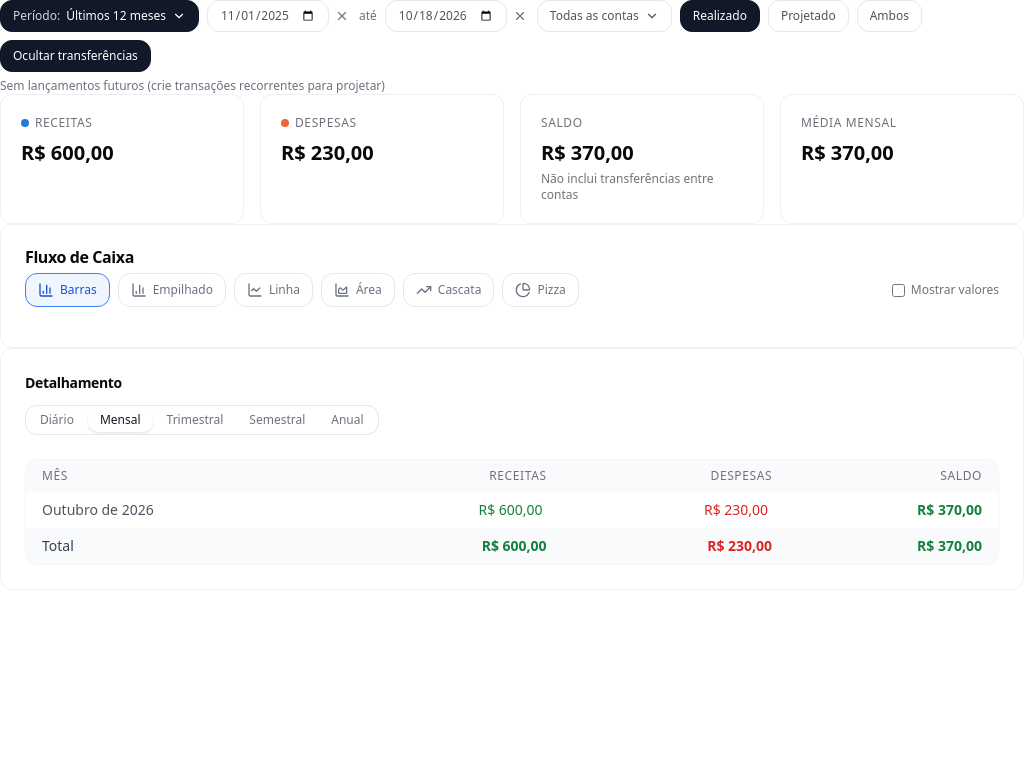
Test case: cards × total do detalhamento › clicar num lançamento da lista abre o popup com os detalhes
What coordinates should you click on to do the following:
click the button "R$ 230,00"
I would click on:
 (736, 510)
Its box is [700,500,772,520].
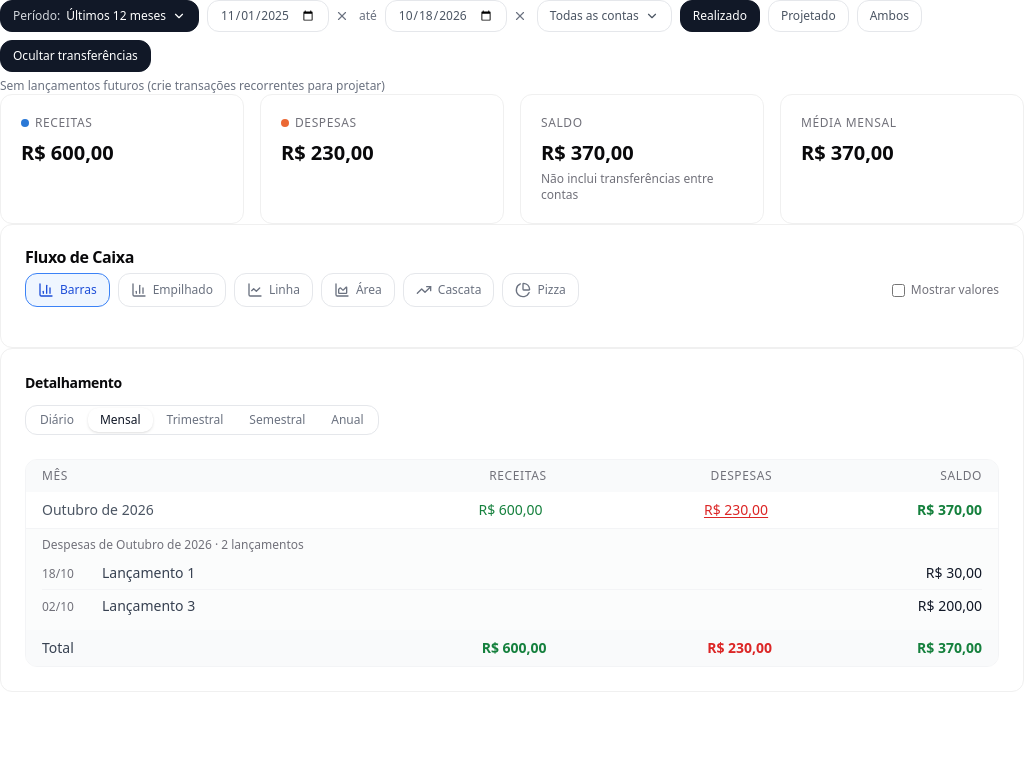
What coordinates should you click on to do the following:
click the text "Lançamento 3"
I would click on:
 (149, 606)
Its box is [102,596,195,615].
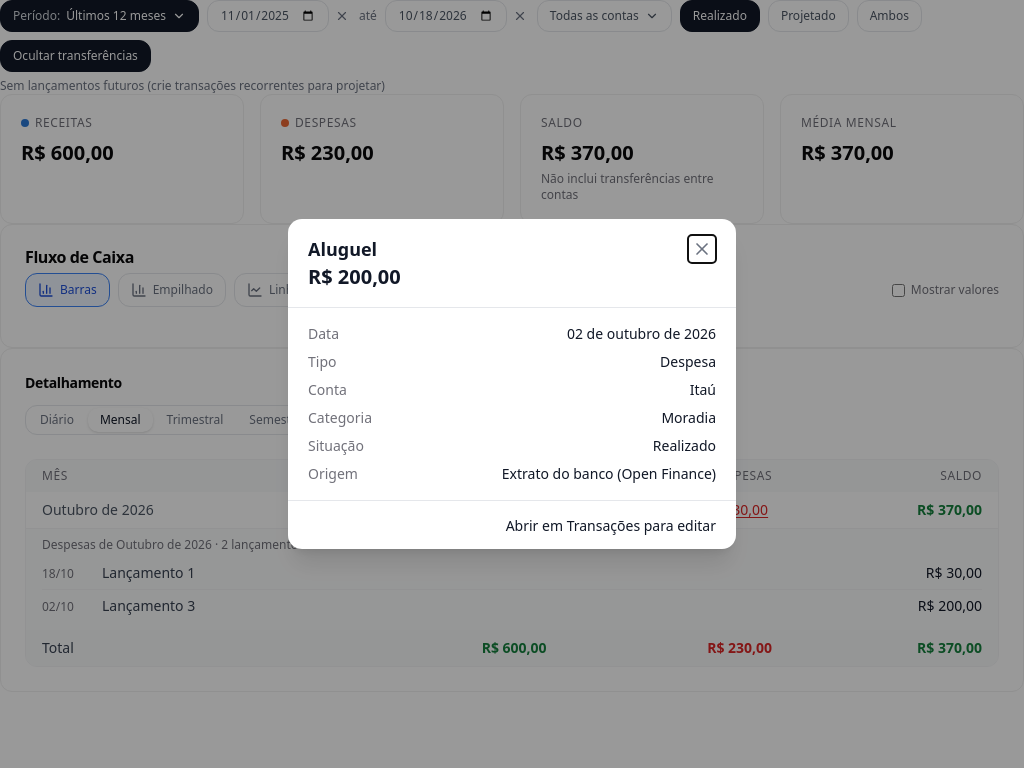
Check: the text "Moradia" is shown, box [661,408,716,428]
Check: the text "Itaú" is shown, box [690,380,716,400]
Check: the text "Realizado" is shown, box [653,436,716,456]
